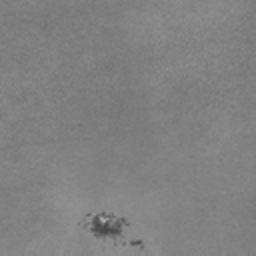Iron sheet ash: (88, 211, 131, 237)
